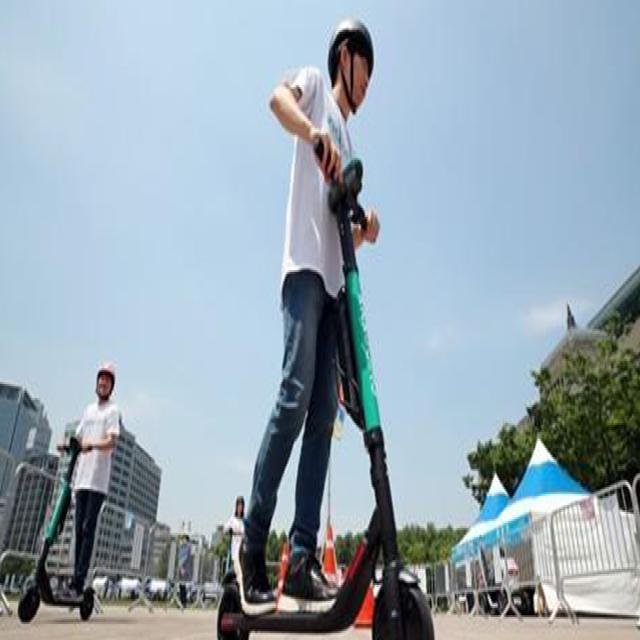helmet: (214, 6, 439, 640), (12, 352, 123, 640)
